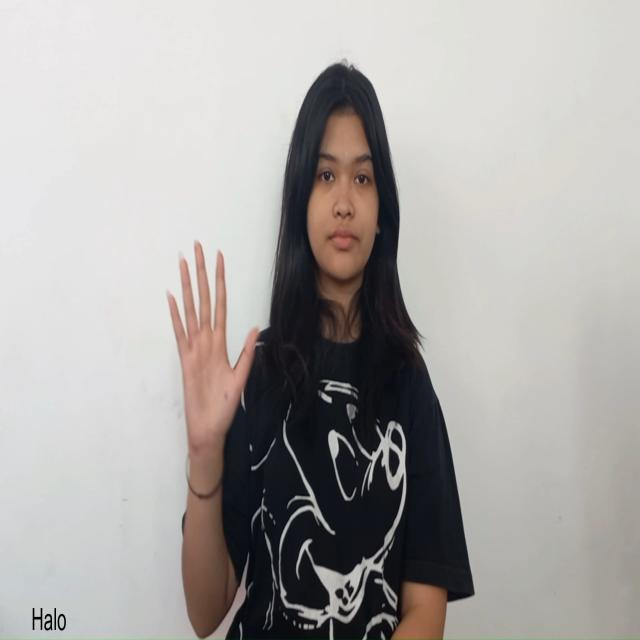Halo -BISINDO-: (166, 238, 261, 455)
